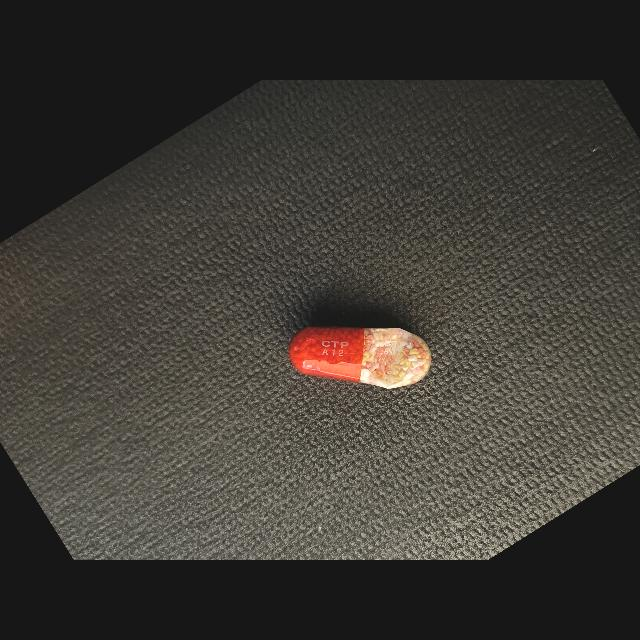Defective Capsule: (289, 327, 431, 389)
